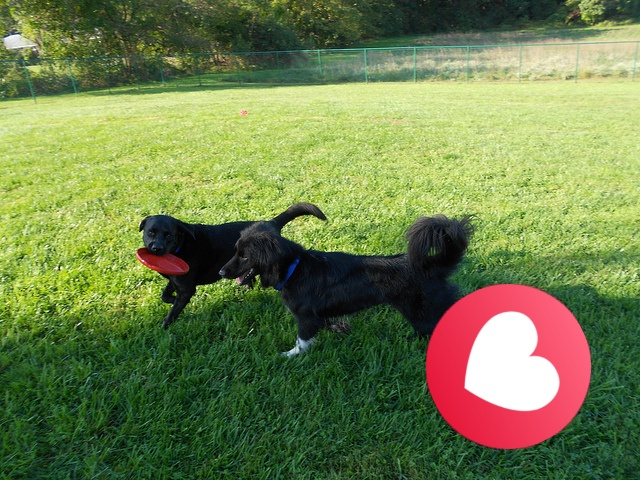love: (426, 284, 591, 449)
